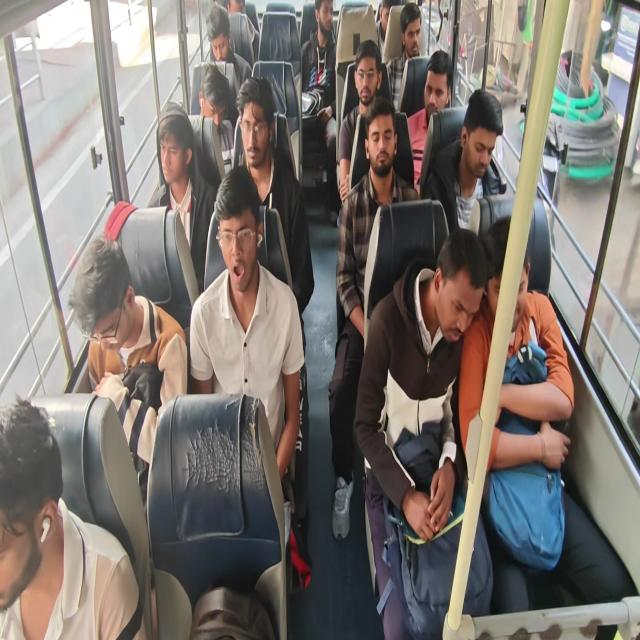person: (204, 197, 301, 353), (45, 254, 143, 398), (0, 414, 39, 556), (482, 202, 528, 321), (455, 100, 507, 194), (425, 259, 479, 347), (243, 88, 282, 185), (144, 122, 187, 198), (192, 58, 226, 136), (352, 48, 386, 106), (198, 14, 238, 59), (371, 122, 407, 170), (378, 8, 405, 54), (399, 6, 421, 55), (429, 52, 452, 93), (317, 2, 339, 32), (222, 0, 251, 13)
